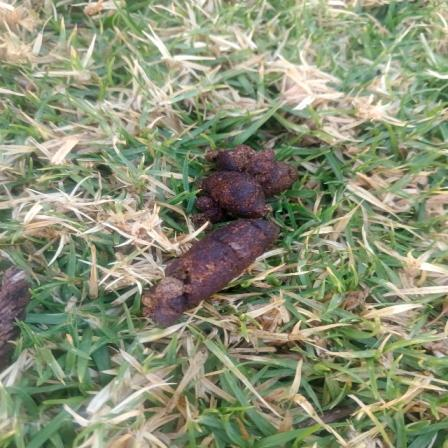dog-poop: (134, 129, 314, 332)
